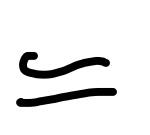eqv: (17, 52, 117, 107)
